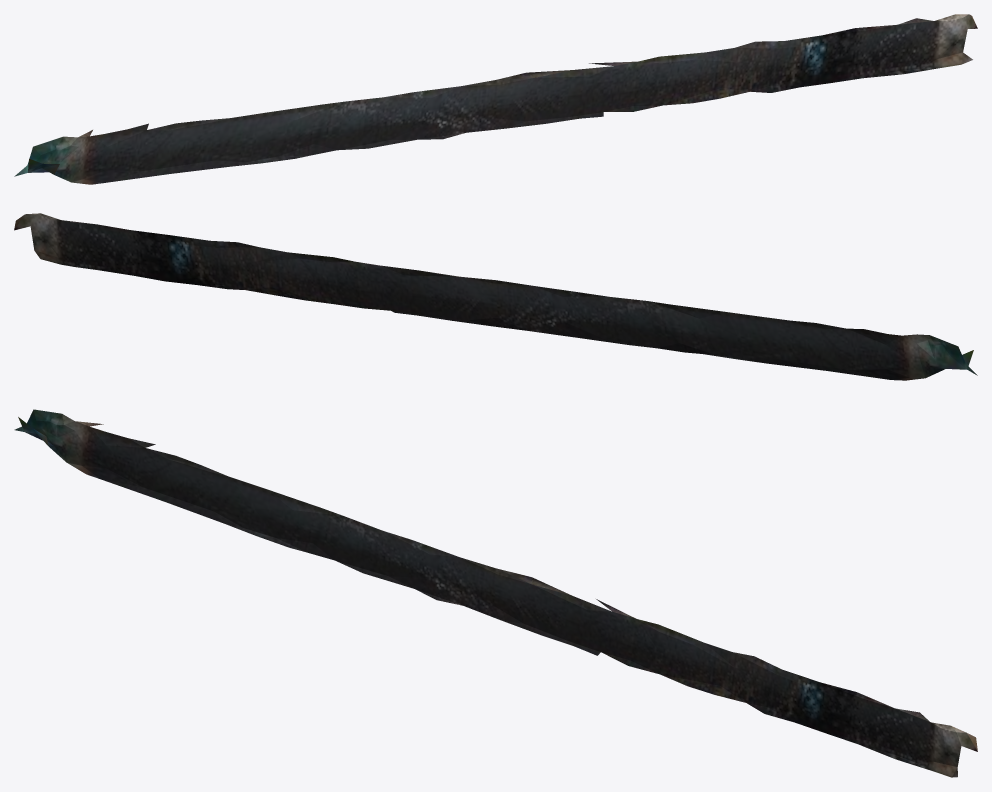
Rendered from meshes_1-dynamic - BLK2GO-3630355-Scan 080 45.obj.
3 renders of one model, top to bottom at view 1: azimuth 30°, elevation 25°; view 2: azimuth 150°, elevation 25°; view 3: azimuth 330°, elevation 25°, orthographic.
Parts seen in each view (by area): view 1: 1-dynamic_-_BLK2GO-3630355-Scan_080_45_0; view 2: 1-dynamic_-_BLK2GO-3630355-Scan_080_45_0; view 3: 1-dynamic_-_BLK2GO-3630355-Scan_080_45_0.
Part boxes in pixels (bbox=[...]): 1-dynamic_-_BLK2GO-3630355-Scan_080_45_0: bbox=[14, 14, 977, 184]; 1-dynamic_-_BLK2GO-3630355-Scan_080_45_0: bbox=[14, 213, 977, 380]; 1-dynamic_-_BLK2GO-3630355-Scan_080_45_0: bbox=[14, 409, 977, 777].
Size of the model in its own units: 6.04 by 0.8632 by 0.1318.
Materials: 1 (1 with a texture image).
